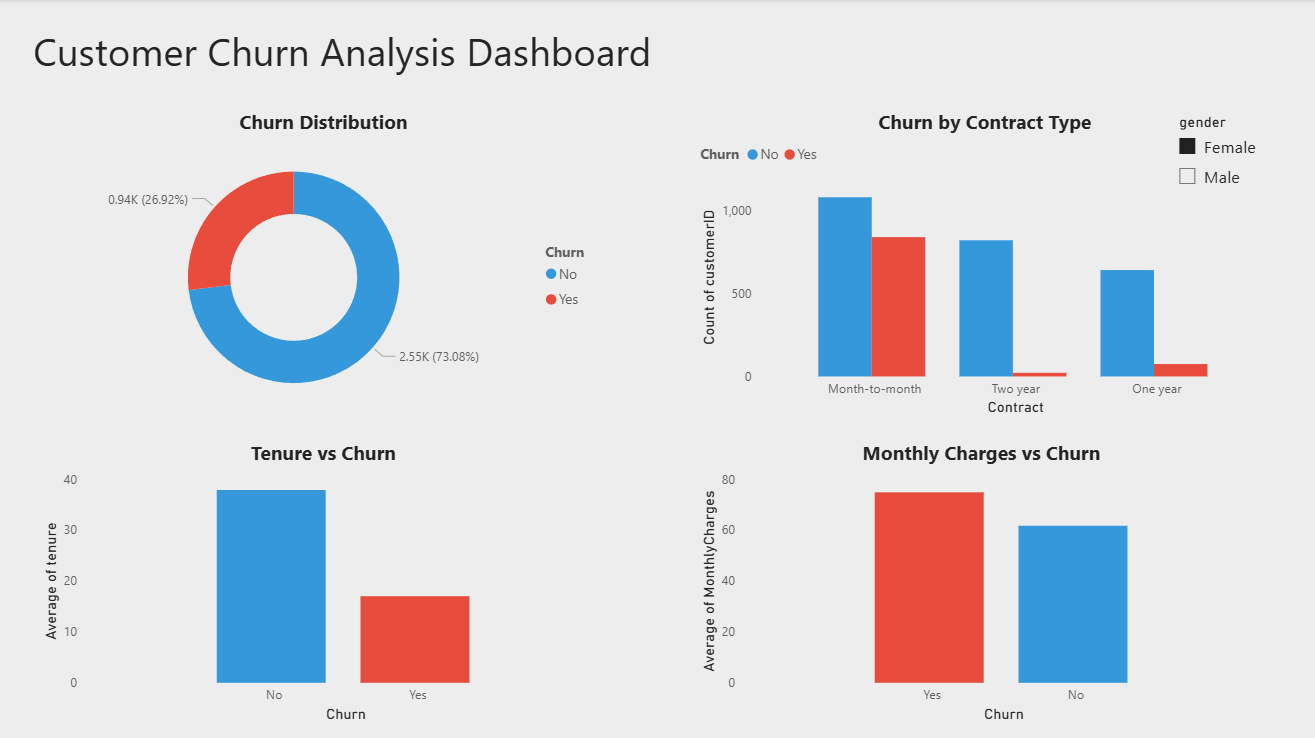

Layout of this report page (visuals, bound fields, positions):
{"tool":"powerbi","page":{"name":"Page 1","canvas":[1280,720],"ordinal":0},"visuals":[{"type":"donutChart","title":"Churn Distribution","fields":{"Category":["Telco-Customer-Churn.Churn"],"Y":["CountNonNull(Telco-Customer-Churn.Churn)"]},"box":[36,106,557.3,304.4],"z":0},{"type":"clusteredColumnChart","title":"Monthly Charges vs Churn","fields":{"Category":["Telco-Customer-Churn.Churn"],"Y":["Avg(Telco-Customer-Churn.MonthlyCharges)"]},"box":[676,428,557.3,280.1],"z":1000},{"type":"clusteredColumnChart","title":"Tenure vs Churn","fields":{"Category":["Telco-Customer-Churn.Churn"],"Y":["Avg(Telco-Customer-Churn.tenure)"]},"box":[36,428,557.3,280.1],"z":2000},{"type":"clusteredColumnChart","title":"Churn by Contract Type","fields":{"Category":["Telco-Customer-Churn.Contract"],"Y":["CountNonNull(Telco-Customer-Churn.customerID)"],"Series":["Telco-Customer-Churn.Churn"]},"box":[676,106,564.1,304.4],"z":3000},{"type":"slicer","title":"Gender","fields":{"Values":["Telco-Customer-Churn.gender"]},"box":[1134.1,106,106,85.6],"z":4000},{"type":"textbox","box":[27.2,20.4,648.8,63.2],"z":5000}]}

Visuals, with their boxes in screenshot pixels (x1, y1, x2, y2), scaled from the page's 1280x720 canvas onto the 1315x738 screenshot:
"Churn Distribution" donutChart: [x1=37, y1=109, x2=610, y2=421]
"Monthly Charges vs Churn" clusteredColumnChart: [x1=694, y1=439, x2=1267, y2=726]
"Tenure vs Churn" clusteredColumnChart: [x1=37, y1=439, x2=610, y2=726]
"Churn by Contract Type" clusteredColumnChart: [x1=694, y1=109, x2=1274, y2=421]
"Gender" slicer: [x1=1165, y1=109, x2=1274, y2=196]
textbox: [x1=28, y1=21, x2=694, y2=86]
